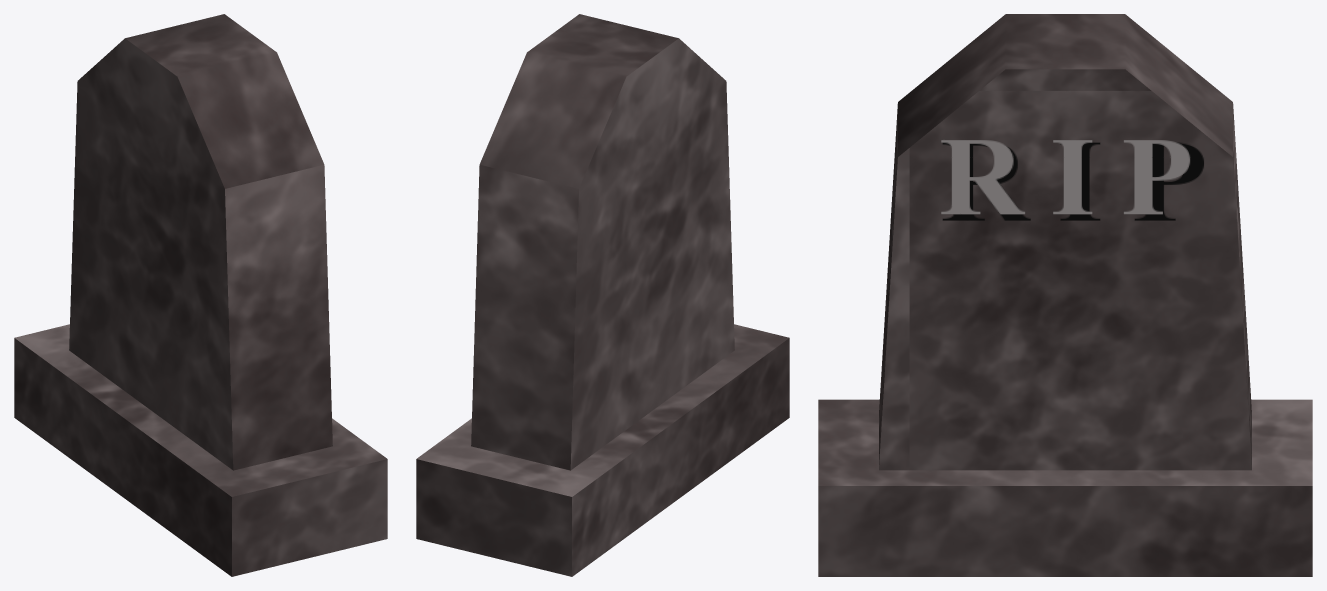
Rendered from Grave.fbx.
The picture shows the model from 3 angles, left to right: view 1: azimuth 30°, elevation 25°; view 2: azimuth 150°, elevation 25°; view 3: azimuth 270°, elevation 25°; orthographic projection. The views are drawn at different scales.
Parts seen in each view (by area): view 1: board, base; view 2: board, base; view 3: board, base.
Boxes of the visible parts, x1,y1,x2,y2 form: board: (69, 14, 332, 470); base: (14, 324, 387, 576); board: (471, 14, 734, 470); base: (416, 324, 789, 576); board: (879, 14, 1251, 470); base: (818, 399, 1312, 576).
Size of the model in its own units: 73.47 by 195 by 178.
